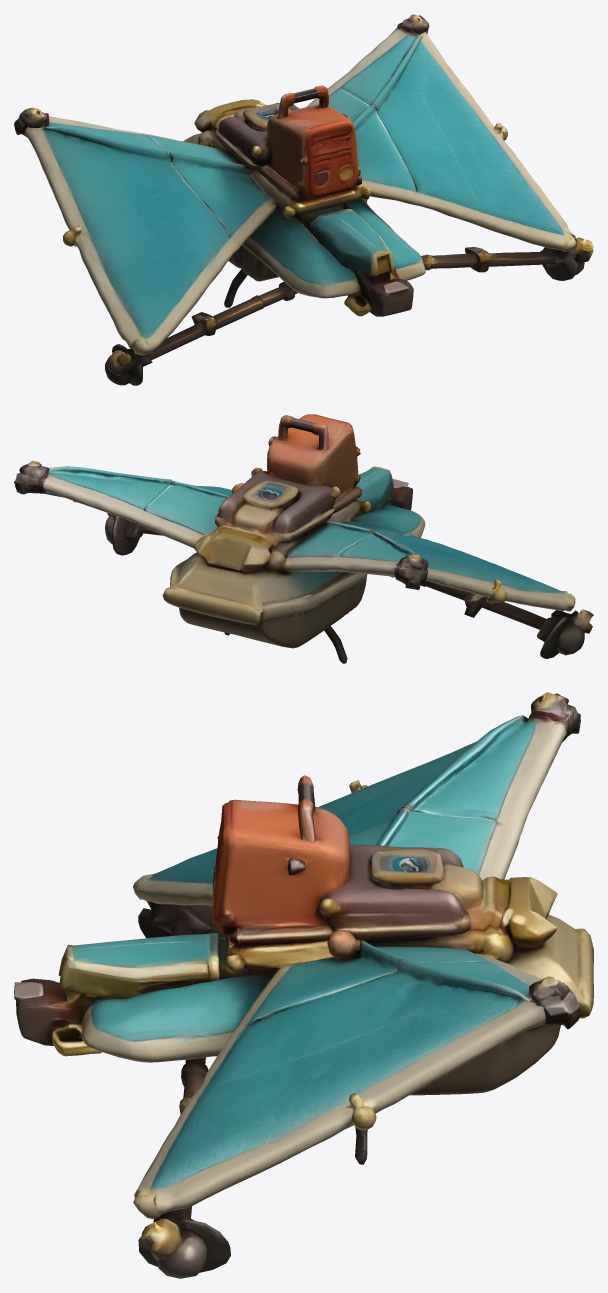
File: glider.glb
The picture shows the model from 3 angles, top to bottom: view 1: azimuth 30°, elevation 25°; view 2: azimuth 150°, elevation 25°; view 3: azimuth 270°, elevation 25°; orthographic projection. The views are drawn at different scales.
Parts seen in each view (by area): view 1: tripo_node_c8ffe7a5-4a2e-4927-967c-fe8db337d45e; view 2: tripo_node_c8ffe7a5-4a2e-4927-967c-fe8db337d45e; view 3: tripo_node_c8ffe7a5-4a2e-4927-967c-fe8db337d45e.
Boxes of the visible parts, x1,y1,x2,y2 form: tripo_node_c8ffe7a5-4a2e-4927-967c-fe8db337d45e: [14, 14, 593, 385]; tripo_node_c8ffe7a5-4a2e-4927-967c-fe8db337d45e: [14, 414, 593, 663]; tripo_node_c8ffe7a5-4a2e-4927-967c-fe8db337d45e: [14, 692, 593, 1278].
Bounding box in the file's own units: 1 × 0.4299 × 0.6812.
Materials: 1 (1 with a texture image).
